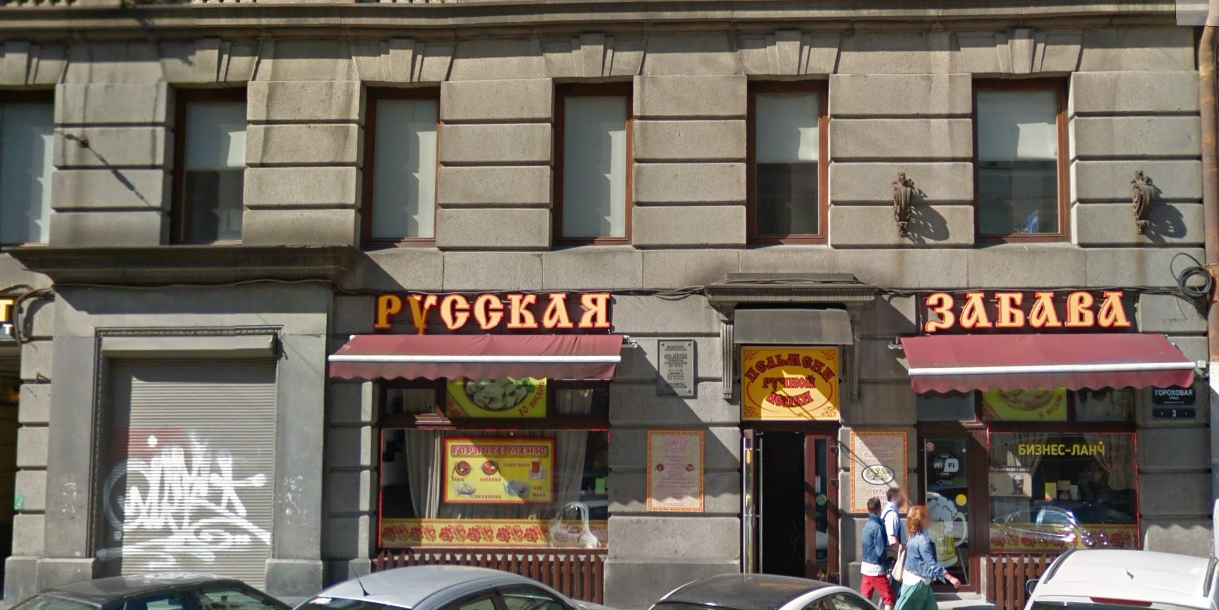door: (738, 426, 845, 579)
signboard: (371, 286, 621, 339), (923, 284, 1132, 338), (740, 342, 846, 425)
window: (368, 382, 610, 550), (982, 427, 1131, 530), (971, 75, 1063, 237), (745, 71, 827, 242), (167, 84, 253, 242), (357, 86, 438, 246), (553, 77, 627, 241), (1, 86, 61, 245)
